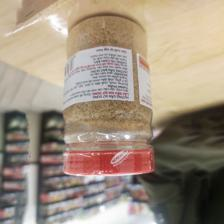Hao_hao: (58, 12, 160, 178)
